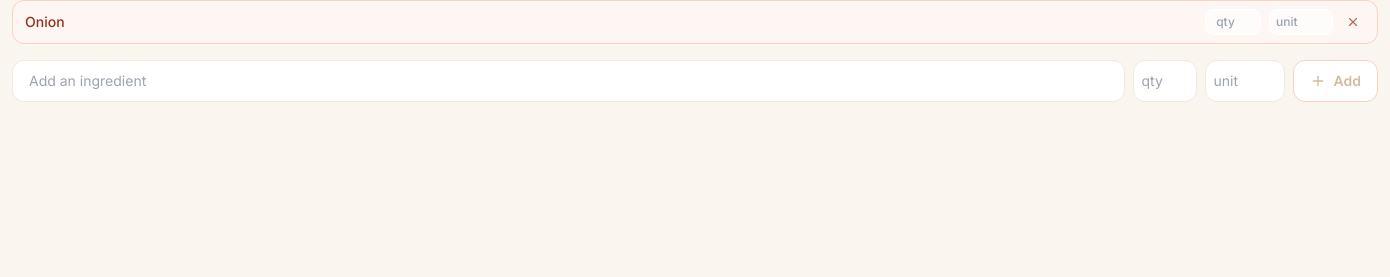
Scenario: IngredientReviewList › removes an ingredient when its chip's remove button is clicked
The image size is (1390, 277).
Click the button named "remove onion": {"x": 1353, "y": 22} [1341,10,1365,34]
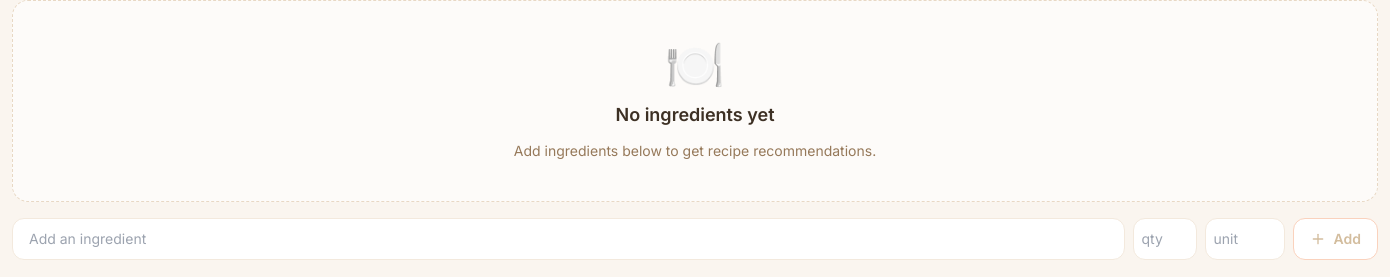
Check: the text "onion" is gone
